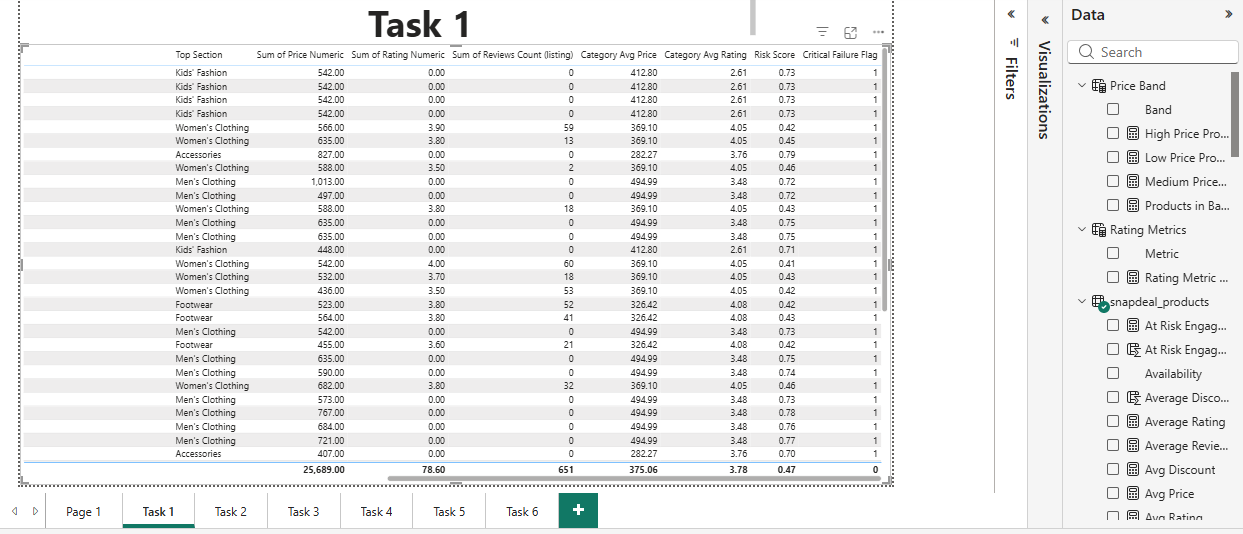

What the dashboard file says about the page in this screenshot:
{"tool":"powerbi","page":{"name":"Task 1","canvas":[1280,720],"ordinal":1},"visuals":[{"type":"tableEx","fields":{"Values":["snapdeal_products.Product Name","snapdeal_products.Top Section","Sum(snapdeal_products.Price Numeric)","Sum(snapdeal_products.Rating Numeric)","Sum(snapdeal_products.Reviews Count (listing))","snapdeal_products.Category Avg Price","snapdeal_products.Category Avg Rating","snapdeal_products.Risk Score","snapdeal_products.Critical Failure Flag"]},"box":[0,72,1279.8,648],"z":2},{"type":"textbox","box":[99.9,0,986,72],"z":3}]}

Visuals, with their boxes on the page's 1280x720 design canvas (x1, y1, x2, y2). These are canvas units, not pixel positions in the 1243x534 screenshot, which may show the page scaled, cropped or inside an application window:
tableEx - snapdeal_products.Product Name x snapdeal_products.Top Section: select_region(0, 72, 1280, 720)
textbox: select_region(100, 0, 1086, 72)
